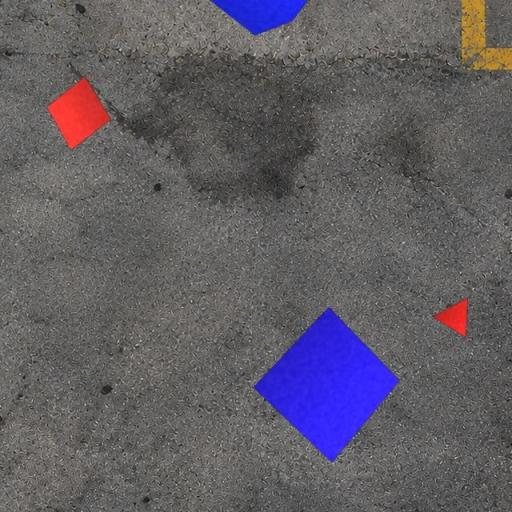BLUE_SQUARE: (252, 306, 401, 464)
RED_SQUARE: (46, 76, 112, 151)
